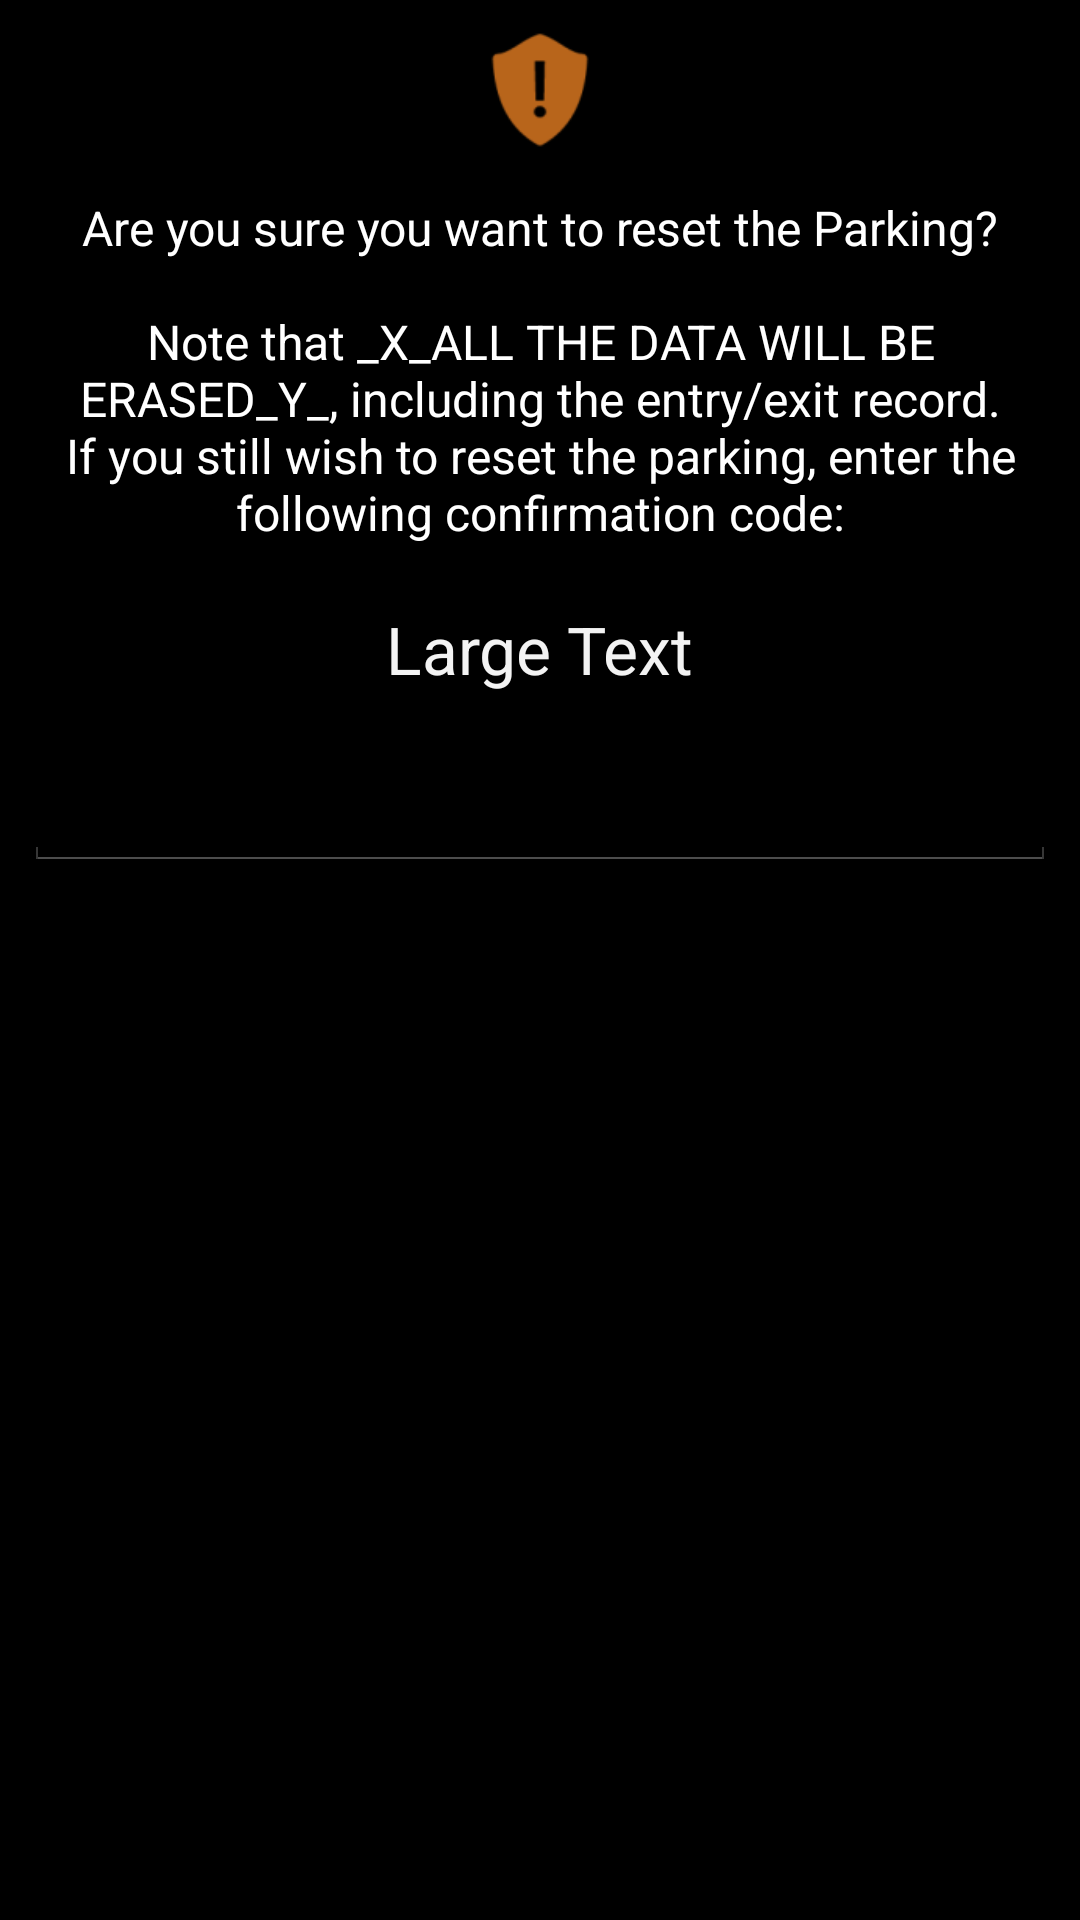

Point at icon controls on the screen. Image size 1080x1920, points as point (x, y).
warning: point (540, 90)
